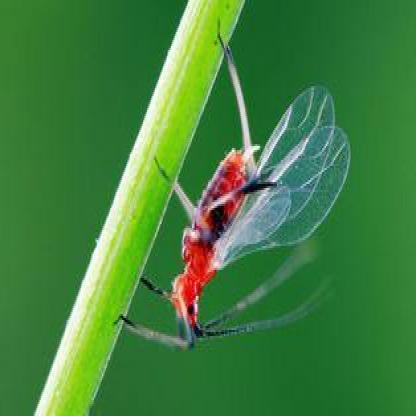aphid: (105, 19, 352, 355)
